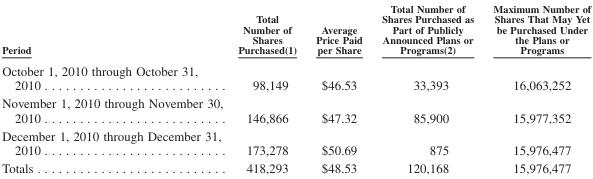table: (1, 1, 590, 175)
table column: (1, 1, 229, 175), (371, 1, 482, 175), (482, 1, 590, 175), (229, 1, 305, 175), (305, 1, 371, 175)
table column header: (1, 1, 590, 59)
table row: (1, 1, 590, 59), (1, 59, 590, 93), (1, 125, 590, 158), (1, 93, 590, 125), (1, 158, 590, 175)
